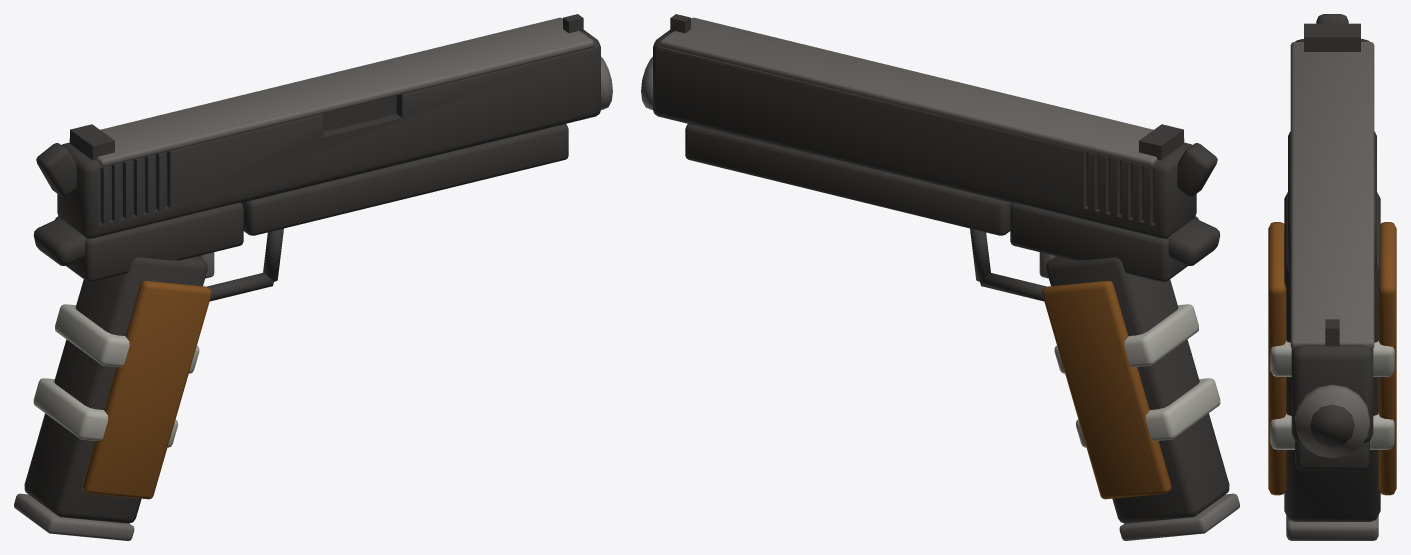
File: gun_pistol_a.glb
3 renders of one model, left to right at view 1: azimuth 30°, elevation 25°; view 2: azimuth 150°, elevation 25°; view 3: azimuth 270°, elevation 25°, orthographic. The views are drawn at different scales.
Parts seen in each view (by area): view 1: slide, slide_wear, grip_panel_0, grip_frame, dust_cover, frame, tape_0, tape_1, mag_base, beavertail, hammer, rear_sight (+2 smaller); view 2: slide, slide_wear, grip_panel_2, grip_frame, dust_cover, frame, tape_0, tape_1, mag_base, beavertail, hammer, rear_sight (+2 smaller); view 3: slide_wear, grip_frame, slide, grip_panel_0, grip_panel_2, bushing, mag_base, rear_sight, muzzle, tape_1, dust_cover, tape_0 (+3 smaller).
Part boxes in pixels (<box>): slide: <box>57,30,600,238</box>; slide_wear: <box>69,17,593,166</box>; grip_panel_0: <box>82,281,211,499</box>; grip_frame: <box>24,256,207,523</box>; dust_cover: <box>242,124,568,235</box>; frame: <box>55,202,243,281</box>; tape_0: <box>55,304,199,373</box>; tape_1: <box>33,378,177,447</box>; mag_base: <box>14,493,134,540</box>; beavertail: <box>33,218,86,265</box>; hammer: <box>36,143,76,197</box>; rear_sight: <box>70,124,114,160</box>; slide: <box>653,30,1196,238</box>; slide_wear: <box>660,17,1184,166</box>; grip_panel_2: <box>1042,281,1171,499</box>; grip_frame: <box>1046,256,1229,523</box>; dust_cover: <box>685,124,1011,235</box>; frame: <box>1010,202,1198,281</box>; tape_0: <box>1054,304,1198,373</box>; tape_1: <box>1076,378,1220,447</box>; mag_base: <box>1119,493,1239,540</box>; beavertail: <box>1167,218,1220,265</box>; hammer: <box>1177,143,1217,197</box>; rear_sight: <box>1139,124,1183,160</box>; slide_wear: <box>1290,42,1374,349</box>; grip_frame: <box>1284,192,1380,521</box>; slide: <box>1291,39,1373,443</box>; grip_panel_0: <box>1268,222,1286,495</box>; grip_panel_2: <box>1378,222,1396,495</box>; bushing: <box>1295,384,1369,458</box>; mag_base: <box>1286,515,1378,540</box>; rear_sight: <box>1304,23,1360,51</box>; muzzle: <box>1310,404,1354,447</box>; tape_1: <box>1270,413,1394,449</box>; dust_cover: <box>1295,441,1369,470</box>; tape_0: <box>1270,340,1394,376</box>.
Bounding box in the file's own units: 0.232 × 0.1543 × 0.036.
